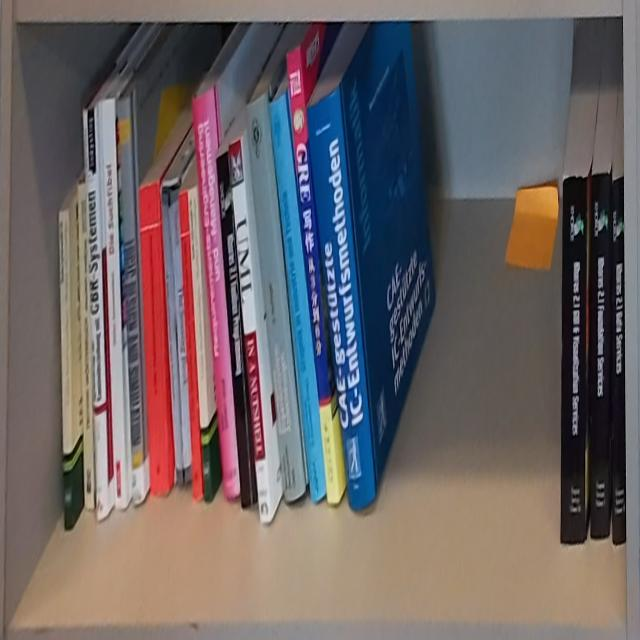Book Spine: (306, 87, 375, 512), (286, 48, 339, 505), (247, 92, 305, 504), (269, 94, 326, 502), (230, 138, 272, 525), (216, 151, 256, 510), (118, 96, 145, 506), (100, 100, 127, 509), (83, 107, 108, 521), (560, 177, 587, 543), (139, 183, 170, 494), (162, 182, 192, 487), (188, 186, 213, 502), (179, 191, 203, 504), (591, 173, 610, 538), (78, 183, 95, 508), (58, 208, 73, 528), (613, 176, 625, 545)
